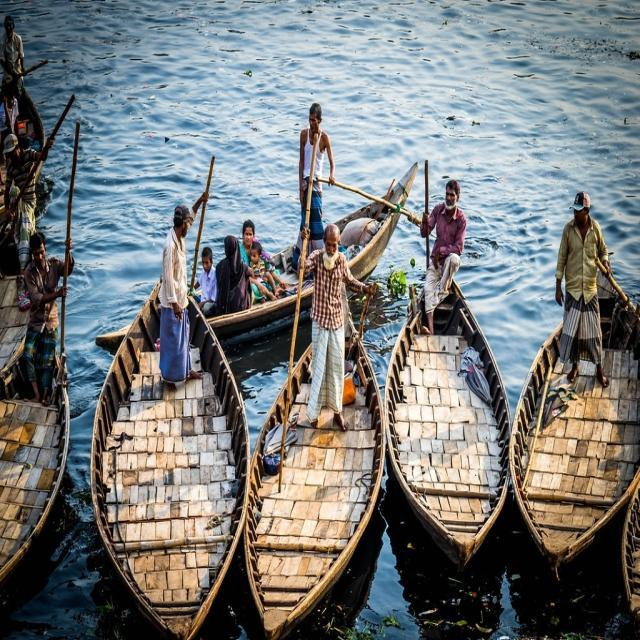boat: (88, 159, 438, 355), (89, 249, 259, 640), (238, 298, 384, 634), (513, 231, 640, 570), (376, 266, 508, 564), (374, 262, 414, 302)
